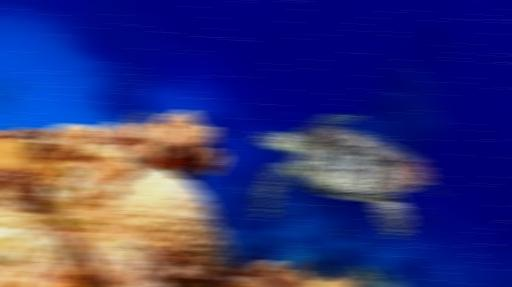Fish: (255, 113, 441, 237)
